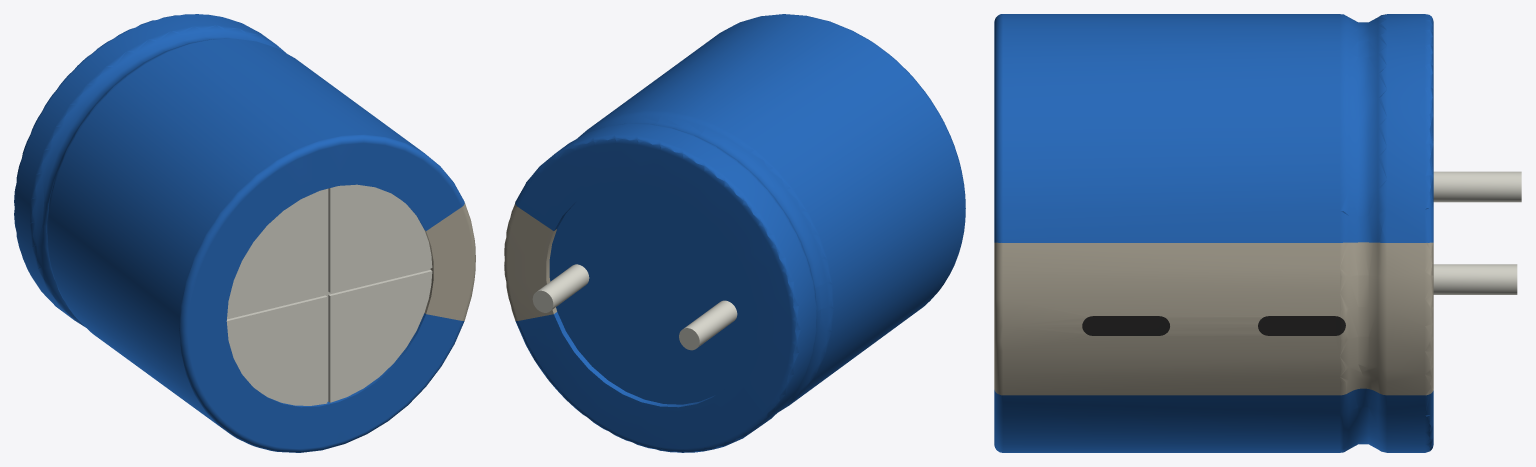
File: cp-radial-d10.0-p5.00.glb
3 views of the same model, side by side, from view 1: azimuth 30°, elevation 25°; view 2: azimuth 150°, elevation 25°; view 3: azimuth 270°, elevation 25° (orthographic). The views are drawn at different scales.
Parts seen in each view (by area): view 1: PLASTIC-BLUE-01, PIN-01, IC-LABEL-01; view 2: PLASTIC-BLUE-01, IC-LABEL-01, PIN-01; view 3: PLASTIC-BLUE-01, IC-LABEL-01, PIN-01, IC-BODY-EPOXY-04.
Part boxes in pixels (x1,y1,x2,y2): PLASTIC-BLUE-01: (14, 14, 464, 452); PIN-01: (226, 184, 432, 405); IC-LABEL-01: (424, 203, 475, 320); PLASTIC-BLUE-01: (515, 14, 965, 452); IC-LABEL-01: (504, 203, 556, 320); PIN-01: (532, 264, 737, 350); PLASTIC-BLUE-01: (994, 14, 1433, 452); IC-LABEL-01: (994, 242, 1433, 395); PIN-01: (1433, 171, 1521, 294); IC-BODY-EPOXY-04: (1082, 316, 1345, 335).
Size of the model in its own units: 10 by 10 by 12.
